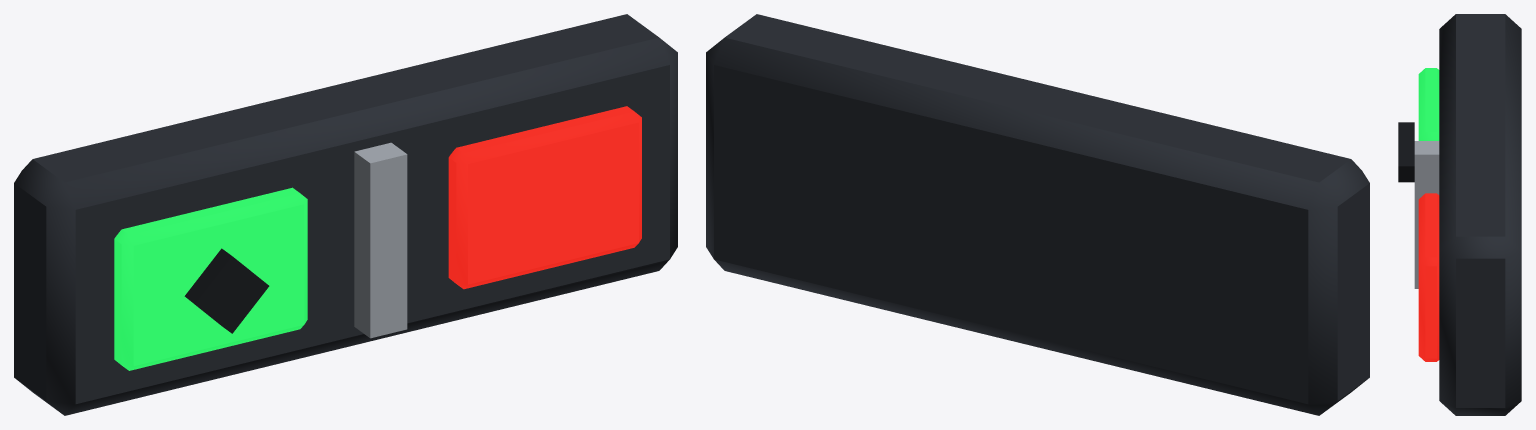
File: warnlight_door_state_light.glb
3 renders of one model, left to right at view 1: azimuth 30°, elevation 25°; view 2: azimuth 150°, elevation 25°; view 3: azimuth 270°, elevation 25°, orthographic. The views are drawn at different scales.
Visible parts, largest first — view 1: warnlight_door_state_light; view 2: warnlight_door_state_light; view 3: warnlight_door_state_light.
Part boxes in pixels (x1,y1,x2,y2): warnlight_door_state_light: [14, 14, 677, 415]; warnlight_door_state_light: [706, 14, 1369, 415]; warnlight_door_state_light: [1398, 14, 1521, 415].
Size of the model in its own units: 0.34 by 0.12 by 0.075.
